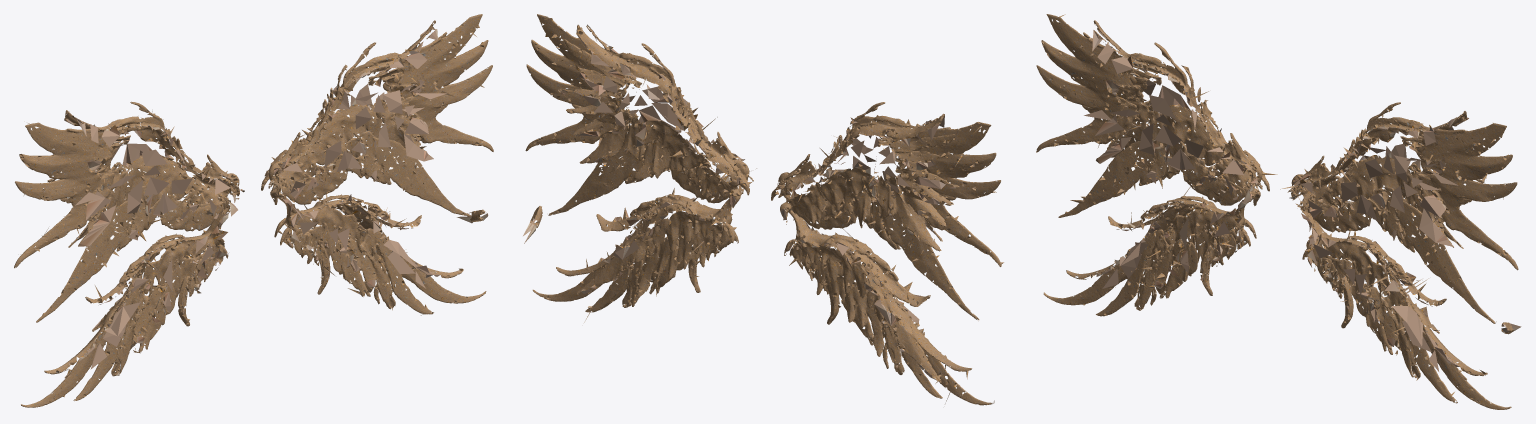
The model's file is AsasAnjo_leve.glb.
3 renders of one model, left to right at view 1: azimuth 30°, elevation 25°; view 2: azimuth 150°, elevation 25°; view 3: azimuth 330°, elevation 25°, orthographic.
Parts seen in each view (by area): view 1: world; view 2: world; view 3: world.
Boxes of the visible parts, bbox=[...] form: world: bbox=[14, 14, 493, 407]; world: bbox=[523, 14, 1003, 405]; world: bbox=[1036, 14, 1521, 409].
Bounding box in the file's own units: 1 × 0.5972 × 0.1296.
1 material, 1 textured.
